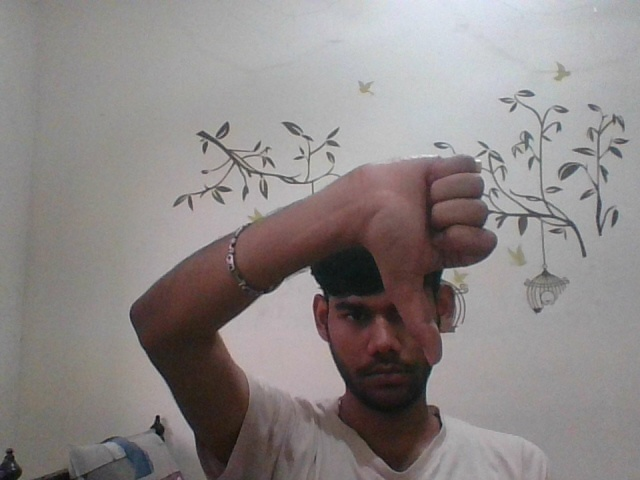No: (338, 148, 522, 366)
